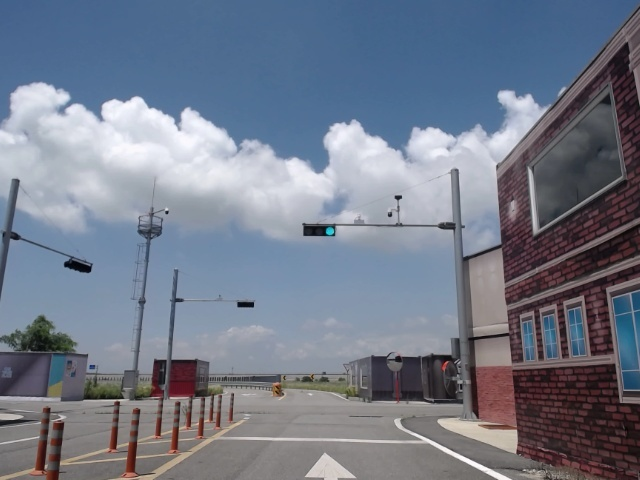green_3: (305, 225, 334, 237)
